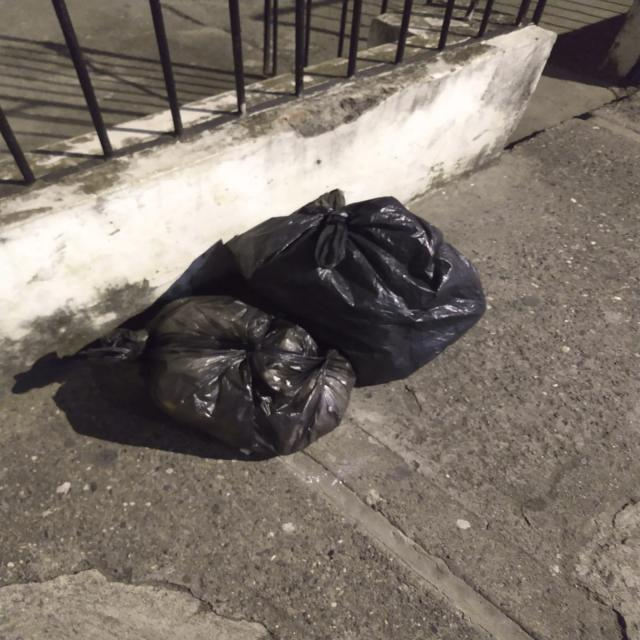Trashbag: (134, 291, 351, 463), (303, 203, 496, 377)
